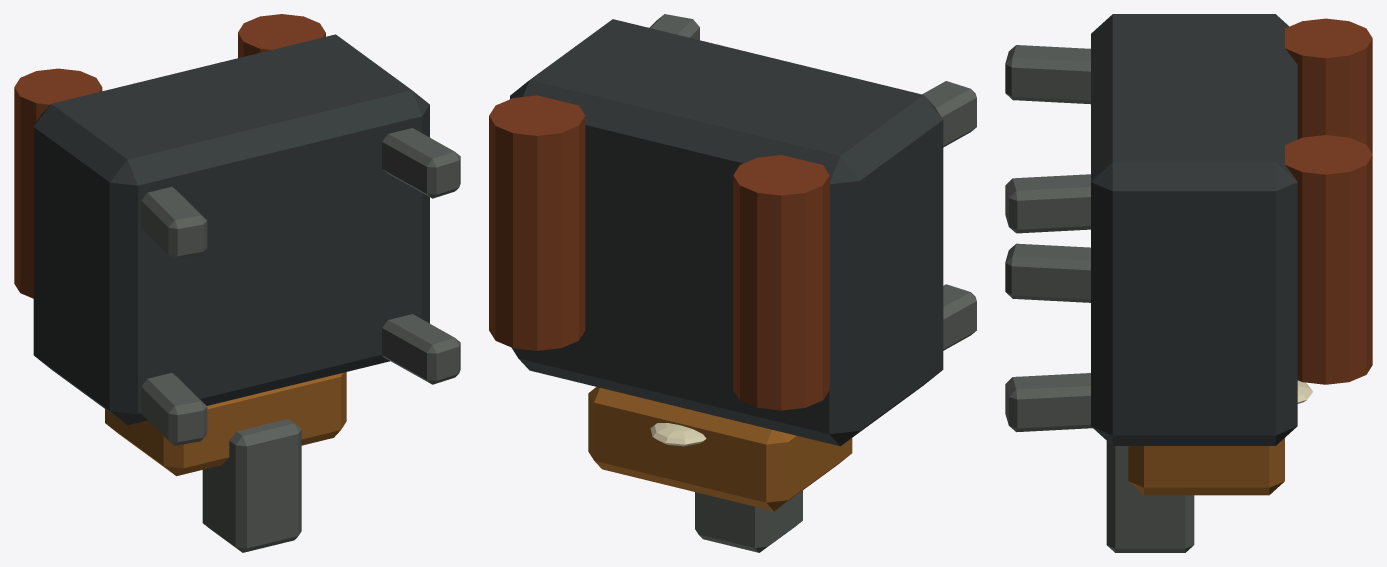
The model's file is PressureBastion.glb.
3 renders of one model, left to right at view 1: azimuth 30°, elevation 25°; view 2: azimuth 150°, elevation 25°; view 3: azimuth 270°, elevation 25°, orthographic. The views are drawn at different scales.
Visible parts, largest first — view 1: Body, Ram, Head, PressureTankL, FrontRightLeg, BackRightLeg, BackLeftLeg, FrontLeftLeg, PressureTankR; view 2: Body, PressureTankR, PressureTankL, Head, Ram, BackLeftLeg, FrontLeftLeg, Gauge, BackRightLeg; view 3: Body, PressureTankR, PressureTankL, Head, Ram, FrontRightLeg, BackLeftLeg, BackRightLeg, FrontLeftLeg.
Boxes of the visible parts, box(x1,y1,x2,y2) form: Body: box(33, 34, 429, 425); Ram: box(202, 419, 301, 552); Head: box(105, 372, 346, 476); PressureTankL: box(14, 68, 102, 298); FrontRightLeg: box(382, 314, 460, 384); BackRightLeg: box(382, 128, 460, 198); BackLeftLeg: box(141, 186, 207, 259); FrontLeftLeg: box(141, 373, 207, 445); PressureTankR: box(238, 14, 325, 57); Body: box(510, 19, 943, 446); PressureTankR: box(489, 95, 585, 350); PressureTankL: box(733, 155, 829, 410); Head: box(588, 387, 852, 511); Ram: box(695, 490, 802, 552); BackLeftLeg: box(922, 81, 976, 147); FrontLeftLeg: box(943, 284, 976, 350); Gauge: box(650, 423, 706, 446); BackRightLeg: box(649, 14, 699, 40); Body: box(1091, 14, 1297, 445); PressureTankR: box(1285, 135, 1372, 384); PressureTankL: box(1285, 18, 1372, 153); Head: box(1128, 438, 1284, 495); Ram: box(1106, 441, 1194, 552); FrontRightLeg: box(1005, 373, 1092, 432); BackLeftLeg: box(1005, 45, 1090, 104); BackRightLeg: box(1005, 174, 1090, 233); FrontLeftLeg: box(1005, 243, 1090, 302).
Size of the model in its own units: 6.3 by 7.95 by 5.87.
1 material, 1 textured.
